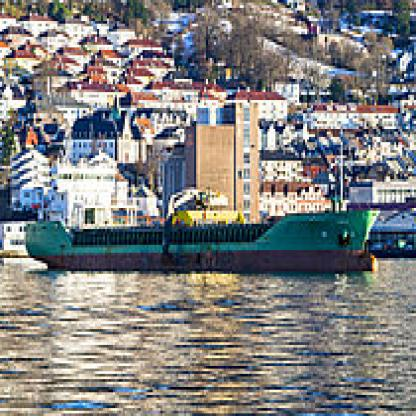Tanker: (10, 197, 368, 282)
